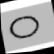no answer: (6, 10, 43, 44)
